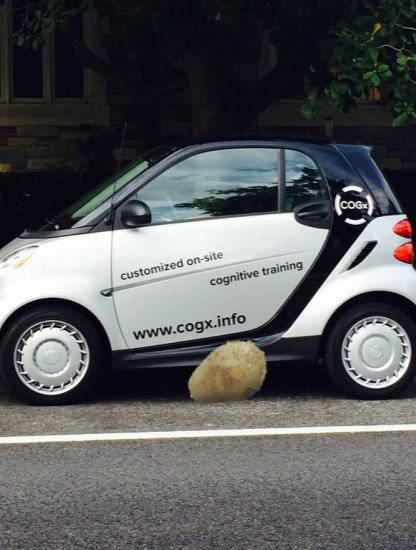Potato: (185, 332, 272, 419)
